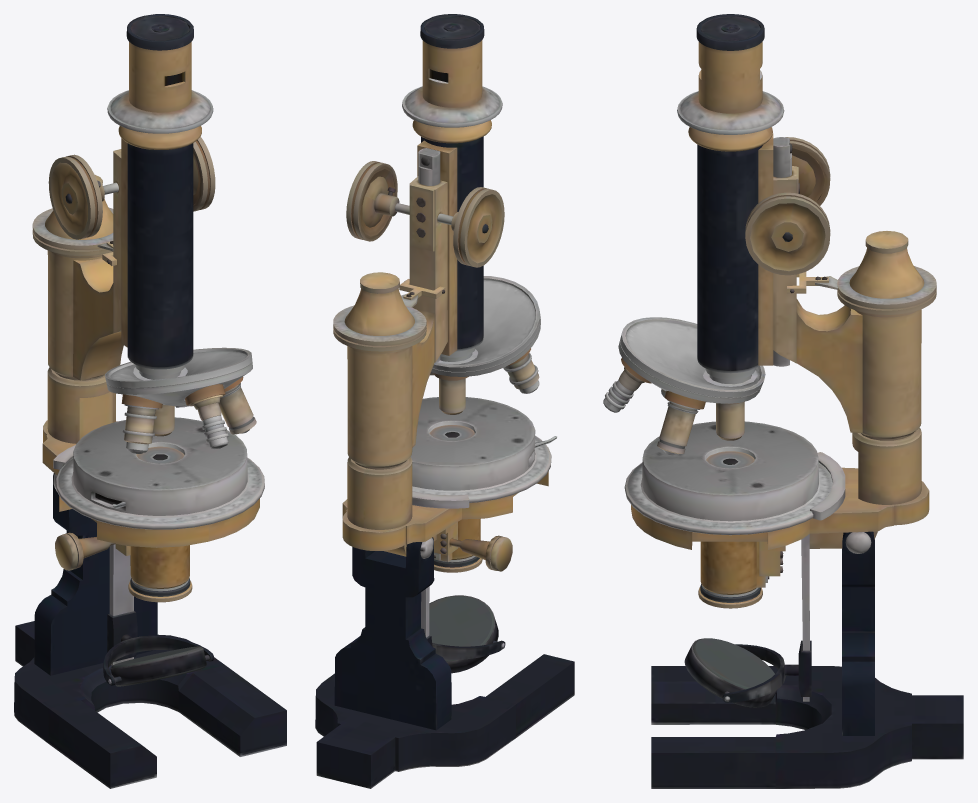
File: vintage_microscope.glb
3 renders of one model, left to right at view 1: azimuth 30°, elevation 25°; view 2: azimuth 150°, elevation 25°; view 3: azimuth 270°, elevation 25°, orthographic. The views are drawn at different scales.
Parts seen in each view (by area): view 1: vintage_microscope_mirror_arm, vintage_microscope_mirror_base; view 2: vintage_microscope_mirror_arm, vintage_microscope_mirror_base; view 3: vintage_microscope_mirror_arm, vintage_microscope_mirror_base.
Boxes of the visible parts, x1=… form: vintage_microscope_mirror_arm: x1=14, y1=14, x2=286, y2=788; vintage_microscope_mirror_base: x1=111, y1=646, x2=205, y2=686; vintage_microscope_mirror_arm: x1=315, y1=14, x2=574, y2=788; vintage_microscope_mirror_base: x1=429, y1=595, x2=494, y2=661; vintage_microscope_mirror_arm: x1=603, y1=14, x2=963, y2=788; vintage_microscope_mirror_base: x1=689, y1=638, x2=774, y2=707.
Bounding box in the file's own units: 0.1068 × 0.3996 × 0.1818.
Materials: 2 (2 with a texture image).
